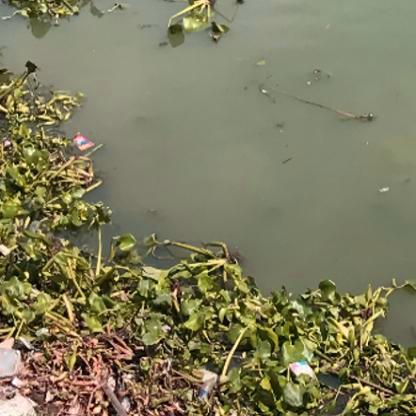Plastic: (65, 128, 94, 156)
Trash: (292, 358, 320, 392)
